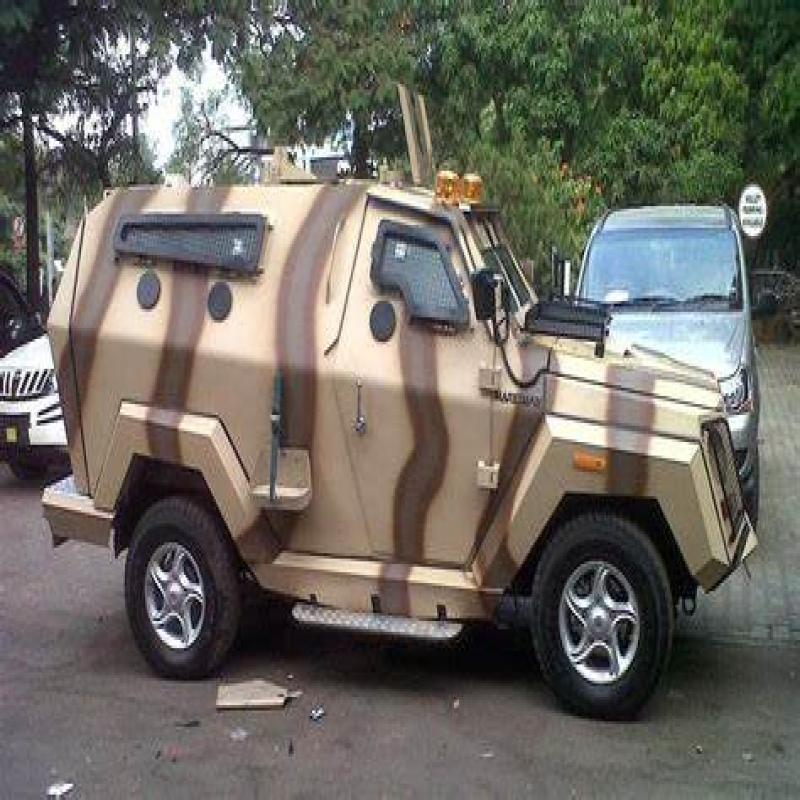AmbulanceSiren: (429, 150, 493, 230)
